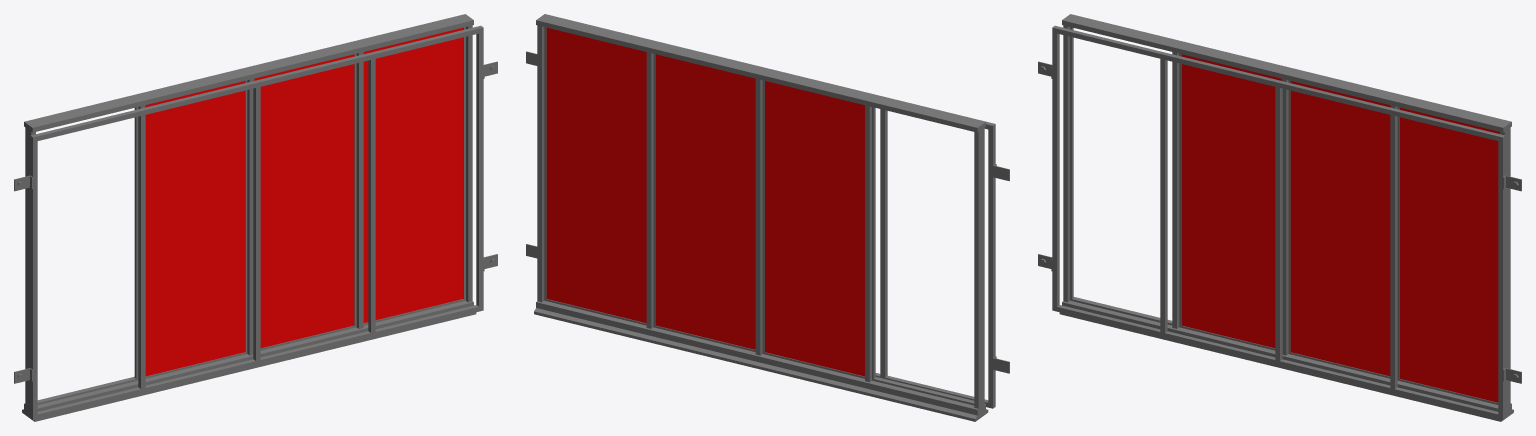
The model's file is Window04_Broken01.fbx.
3 views of the same model, side by side, from view 1: azimuth 30°, elevation 25°; view 2: azimuth 150°, elevation 25°; view 3: azimuth 330°, elevation 25° (orthographic).
Parts seen in each view (by area): view 1: Window04_Broken01; view 2: Window04_Broken01; view 3: Window04_Broken01.
Part boxes in pixels (x1,y1,x2,y2): Window04_Broken01: [14, 14, 497, 421]; Window04_Broken01: [526, 14, 1009, 421]; Window04_Broken01: [1038, 14, 1521, 421].
Size of the model in its own units: 263 by 152 by 14.75.
